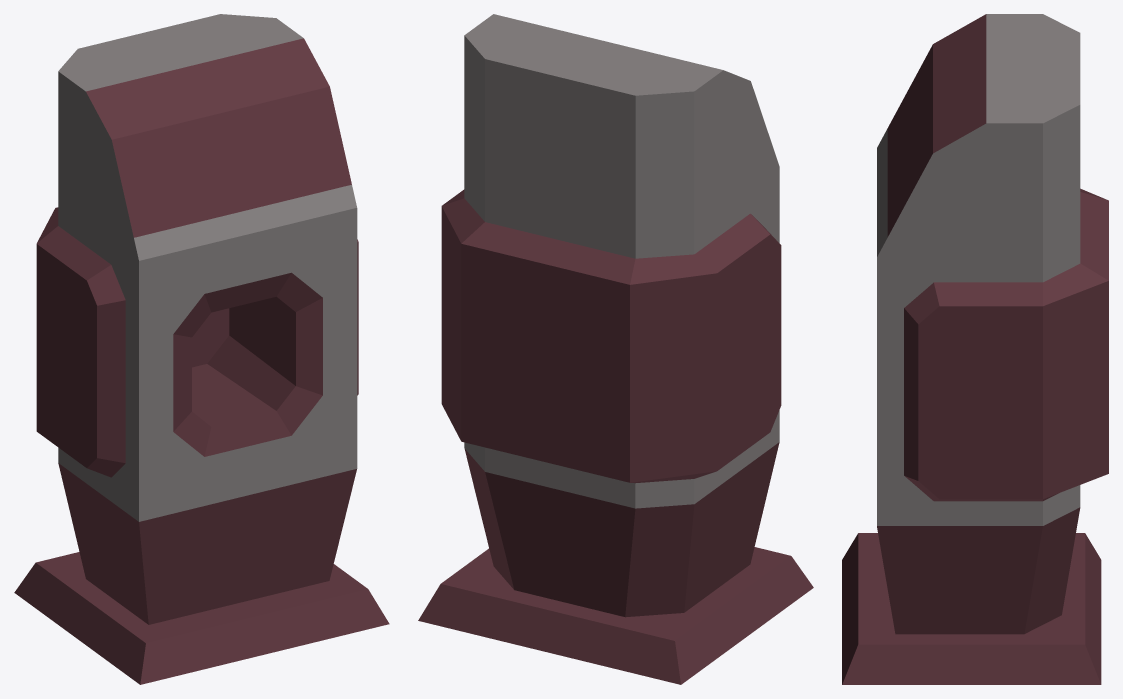
Rendered from scifi-chemistry-lab.fbx.
The picture shows the model from 3 angles, left to right: view 1: azimuth 30°, elevation 25°; view 2: azimuth 150°, elevation 25°; view 3: azimuth 270°, elevation 25°; orthographic projection. The views are drawn at different scales.
Parts seen in each view (by area): view 1: scifi-chemistry-lab; view 2: scifi-chemistry-lab; view 3: scifi-chemistry-lab.
Boxes of the visible parts, left/top/right/bottom form: scifi-chemistry-lab: left=14, top=14, right=389, bottom=684; scifi-chemistry-lab: left=418, top=14, right=813, bottom=684; scifi-chemistry-lab: left=842, top=14, right=1108, bottom=684.
Bounding box in the file's own units: 0.8389 × 1.65 × 0.7205.
